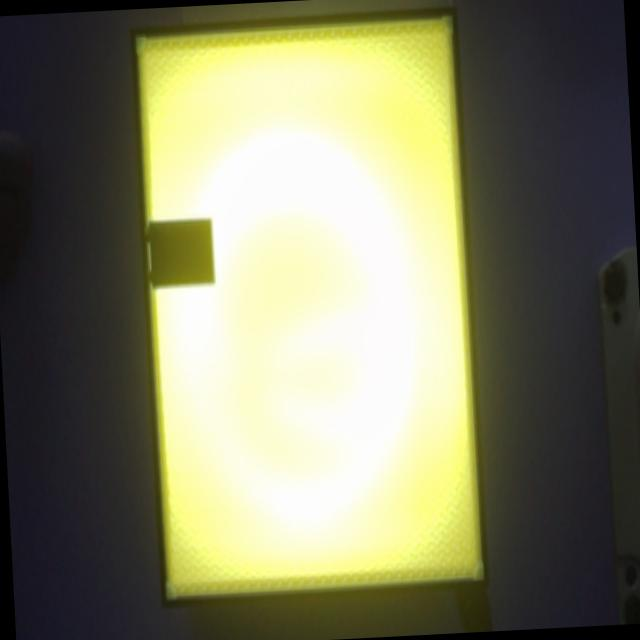bateria: (145, 216, 216, 290)
mesa: (131, 8, 490, 609)
